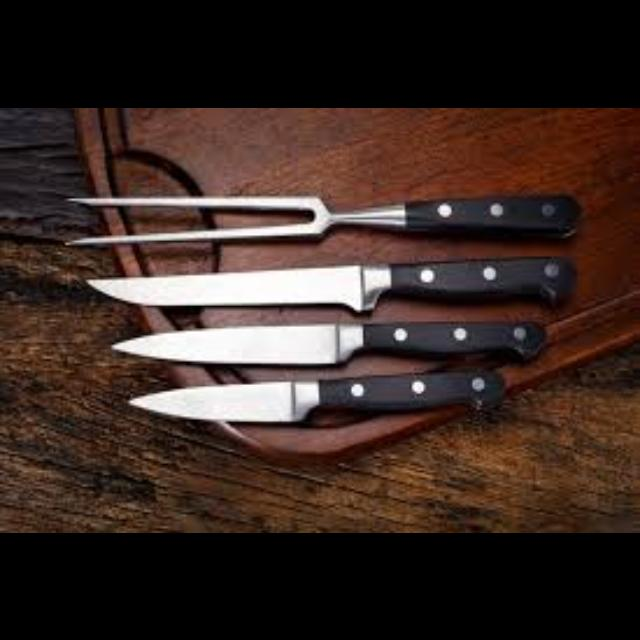knife: (126, 323, 638, 423), (110, 286, 638, 366), (84, 254, 576, 310), (126, 366, 504, 420), (110, 319, 544, 365)
